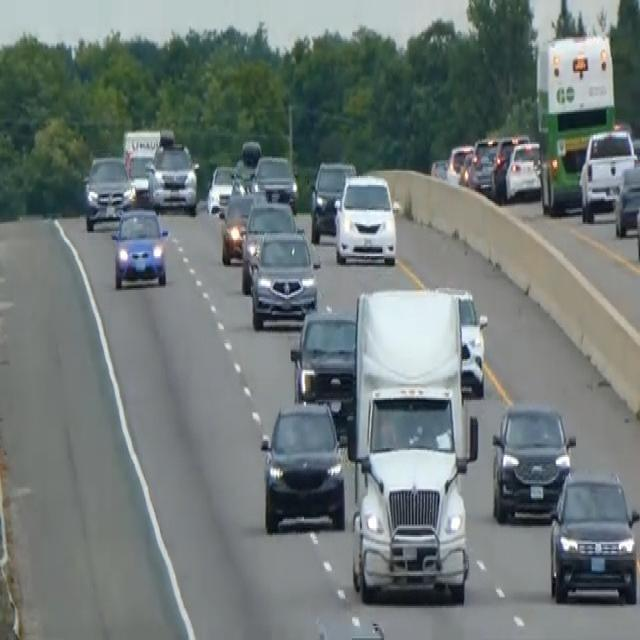bus: (534, 30, 617, 215)
car: (548, 466, 639, 604), (259, 396, 345, 534), (490, 400, 575, 523), (289, 306, 357, 439), (249, 227, 320, 329), (334, 171, 398, 265), (436, 283, 488, 397), (578, 125, 637, 222), (240, 198, 298, 292), (110, 202, 169, 290), (309, 158, 356, 242), (83, 153, 133, 229), (148, 139, 199, 213), (218, 187, 261, 265), (251, 151, 298, 212), (491, 133, 529, 201), (503, 137, 542, 201), (613, 162, 639, 238), (467, 135, 499, 194), (125, 150, 155, 204), (205, 162, 236, 213), (234, 137, 262, 187), (446, 142, 473, 185), (634, 174, 639, 265)
lorry: (346, 284, 479, 604)
